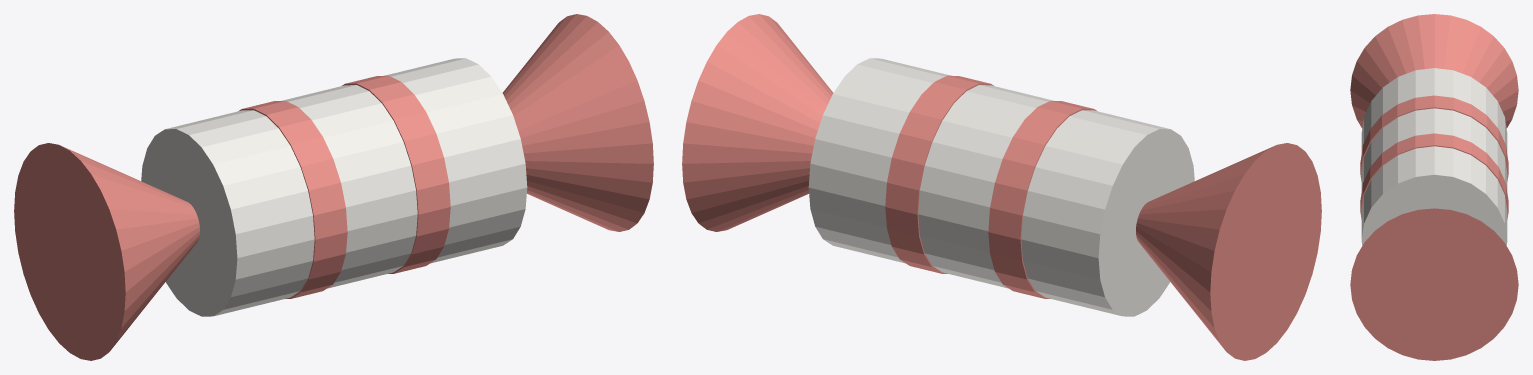
File: item_41_milk_candy.glb
The picture shows the model from 3 angles, left to right: view 1: azimuth 30°, elevation 25°; view 2: azimuth 150°, elevation 25°; view 3: azimuth 270°, elevation 25°; orthographic projection. The views are drawn at different scales.
Parts seen in each view (by area): view 1: I41_Body, I41_Twist0, I41_Twist1, I41_Stripe1, I41_Stripe0; view 2: I41_Body, I41_Twist0, I41_Twist1, I41_Stripe1, I41_Stripe0; view 3: I41_Twist1, I41_Body, I41_Twist0, I41_Stripe0, I41_Stripe1.
Part boxes in pixels (x1,y1,x2,y2): I41_Body: (141, 58, 527, 316); I41_Twist0: (14, 143, 199, 360); I41_Twist1: (502, 14, 653, 231); I41_Stripe1: (342, 75, 450, 273); I41_Stripe0: (238, 101, 347, 298); I41_Body: (808, 58, 1194, 316); I41_Twist0: (1136, 143, 1321, 360); I41_Twist1: (682, 14, 833, 231); I41_Stripe1: (885, 75, 993, 273); I41_Stripe0: (988, 101, 1097, 298); I41_Twist1: (1350, 208, 1518, 360); I41_Body: (1361, 68, 1507, 245); I41_Twist0: (1350, 14, 1518, 128); I41_Stripe0: (1360, 95, 1508, 181); I41_Stripe1: (1360, 133, 1508, 219).
Size of the model in its own units: 0.082 by 0.03 by 0.03.
